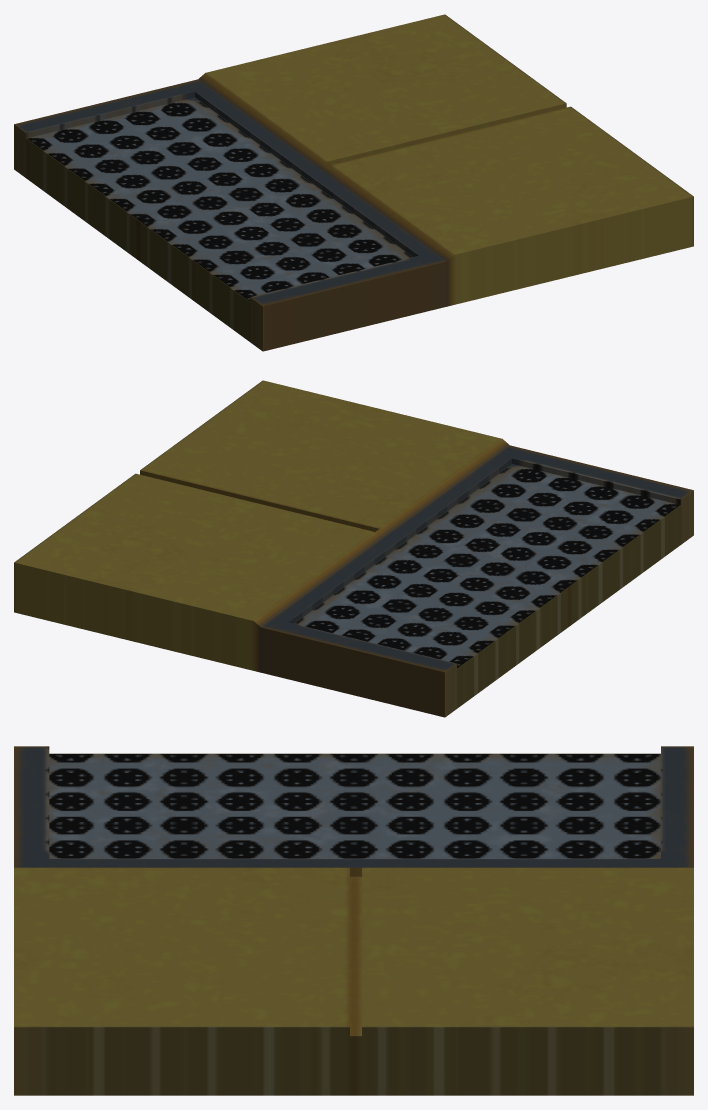
File: S_Floore01.fbx
3 renders of one model, top to bottom at view 1: azimuth 30°, elevation 25°; view 2: azimuth 150°, elevation 25°; view 3: azimuth 270°, elevation 25°, orthographic. The views are drawn at different scales.
Visible parts, largest first — view 1: S_Floore01; view 2: S_Floore01; view 3: S_Floore01.
Boxes of the visible parts, left/top/right/bottom form: S_Floore01: left=14, top=14, right=693, bottom=351; S_Floore01: left=14, top=380, right=693, bottom=717; S_Floore01: left=14, top=746, right=693, bottom=1095.
Bounding box in the file's own units: 200 × 22.12 × 200.
